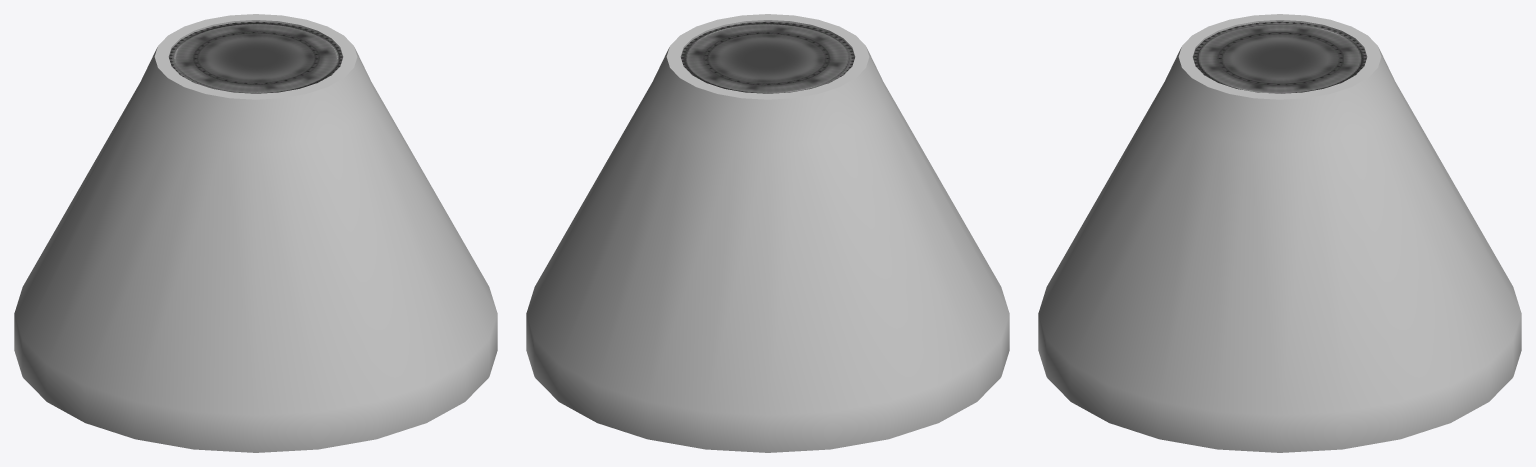
Rendered from Titan1_FuelTank_SmallAdapter.dae.
3 views of the same model, side by side, from view 1: azimuth 30°, elevation 25°; view 2: azimuth 150°, elevation 25°; view 3: azimuth 270°, elevation 25° (orthographic).
Visible parts, largest first — view 1: Titan1_Adapter_15to625, pCylinder49; view 2: Titan1_Adapter_15to625, pCylinder49; view 3: Titan1_Adapter_15to625, pCylinder49.
Part boxes in pixels (x1=…): Titan1_Adapter_15to625: x1=14, y1=14, x2=497, y2=452; pCylinder49: x1=169, y1=21, x2=342, y2=93; Titan1_Adapter_15to625: x1=526, y1=14, x2=1009, y2=452; pCylinder49: x1=681, y1=21, x2=854, y2=93; Titan1_Adapter_15to625: x1=1038, y1=14, x2=1521, y2=452; pCylinder49: x1=1193, y1=21, x2=1366, y2=93.
Bounding box in the file's own units: 1.5 × 1 × 1.5.
